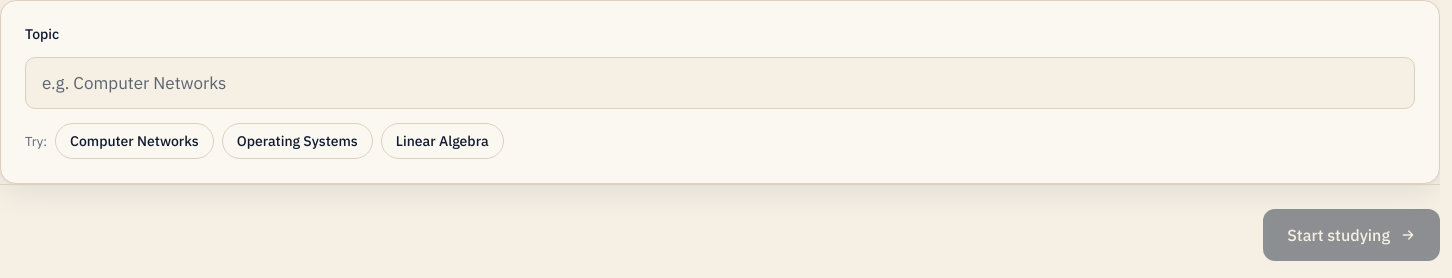
TopicForm › fills the topic from a suggestion
What coordinates should you click on to do the following:
click the button "Operating Systems"
I would click on:
 (297, 141)
Its box is [222,123,373,159].
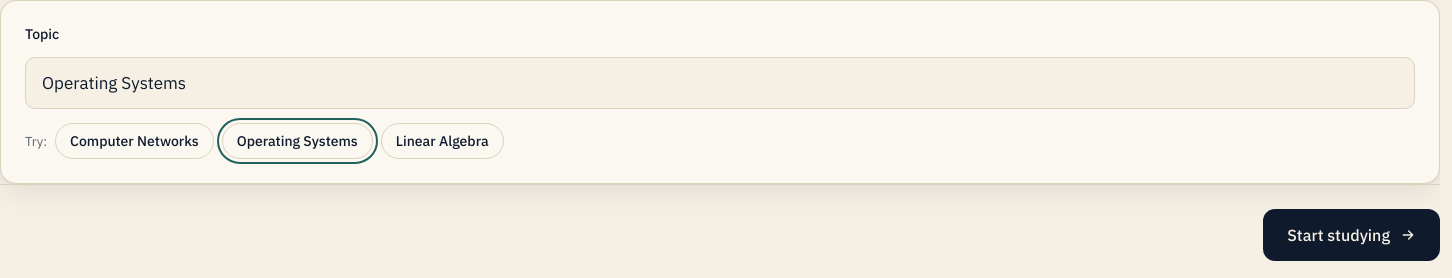
expect the field labelled "Topic" holds "Operating Systems": met, box [25,57,1415,109]
